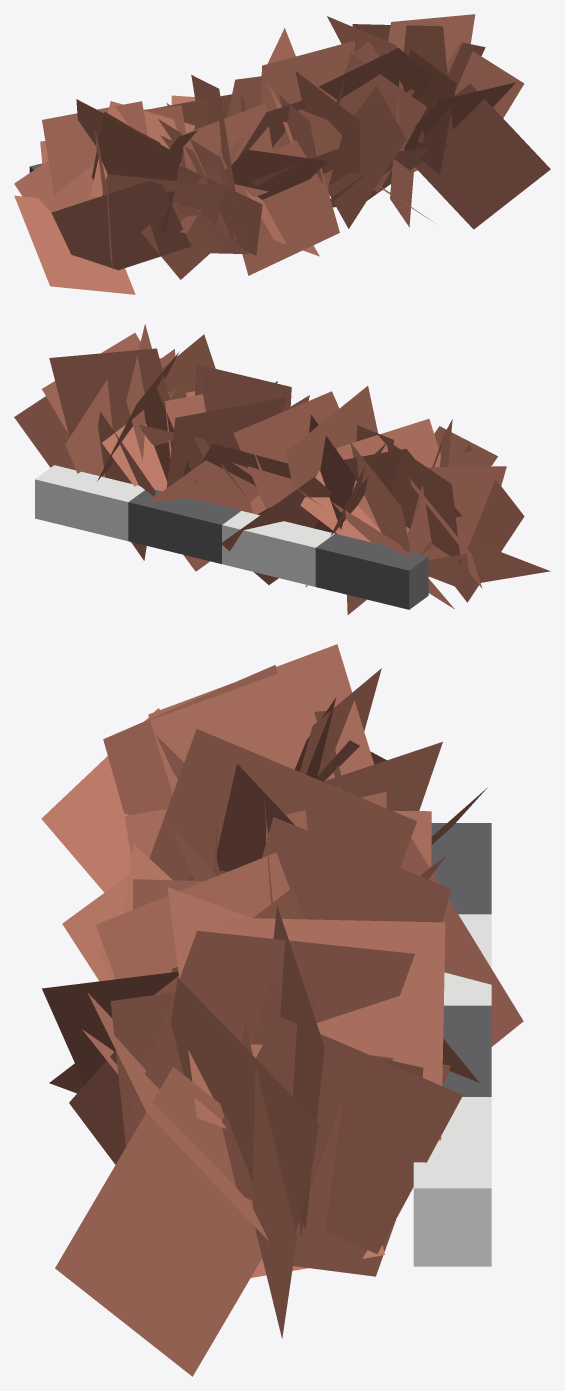
The model's file is Shrub_Border.fbx.
3 views of the same model, one above another, from view 1: azimuth 30°, elevation 25°; view 2: azimuth 150°, elevation 25°; view 3: azimuth 270°, elevation 25° (orthographic). The views are drawn at different scales.
Visible parts, largest first — view 1: Shrub_Border; view 2: Shrub_Border; view 3: Shrub_Border.
Boxes of the visible parts, x1,y1,x2,y2 form: Shrub_Border: (14,14,550,294); Shrub_Border: (14,324,550,614); Shrub_Border: (41,644,523,1376).
Size of the model in its own units: 2.69 by 1.07 by 1.12.
